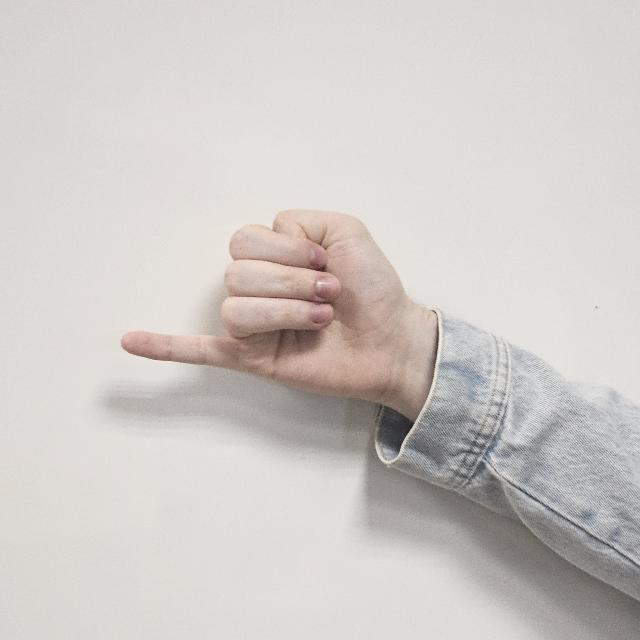Esquerda: (108, 168, 412, 406)
